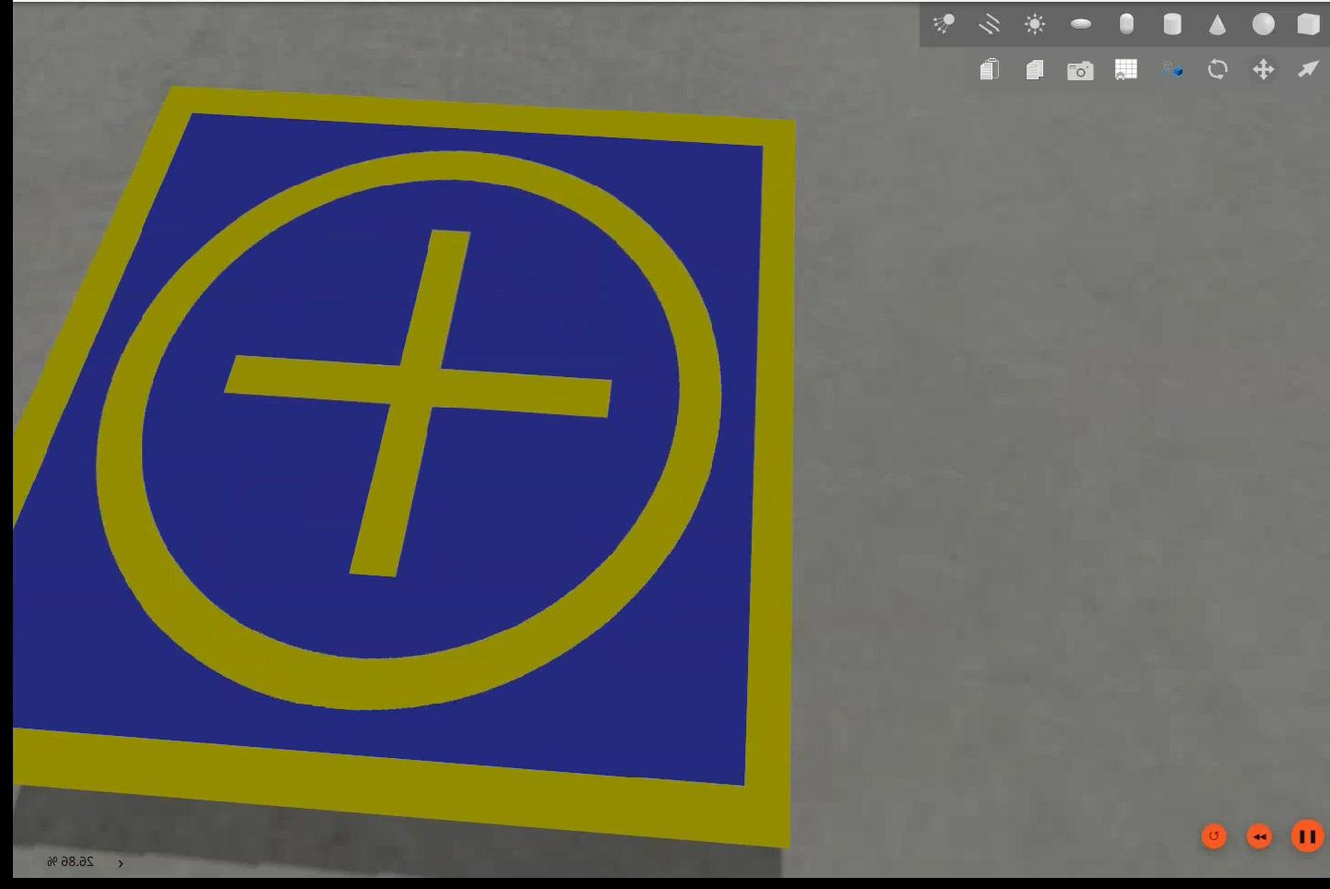small_base: (13, 88, 790, 849)
